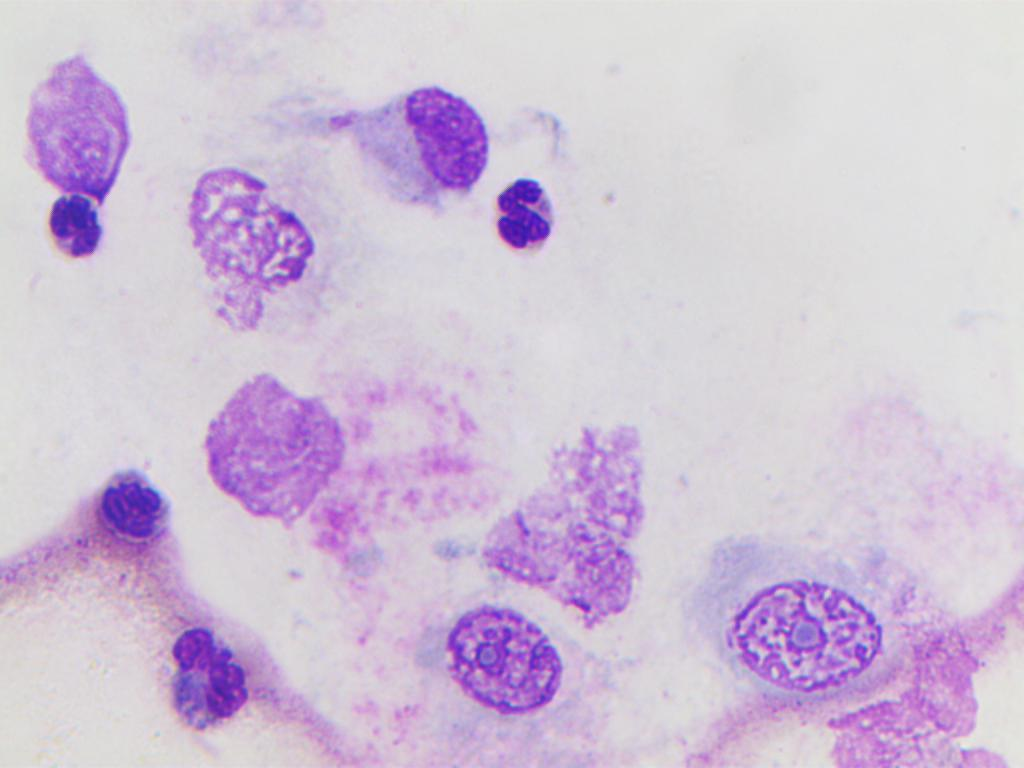artifact: (472, 411, 647, 629), (182, 156, 328, 343), (186, 366, 341, 533), (24, 46, 132, 193)
epithelial: (672, 522, 897, 701), (319, 76, 491, 217), (433, 590, 569, 735)
neutrophil: (37, 458, 171, 607), (150, 601, 257, 736), (484, 167, 558, 263), (41, 196, 106, 281)
